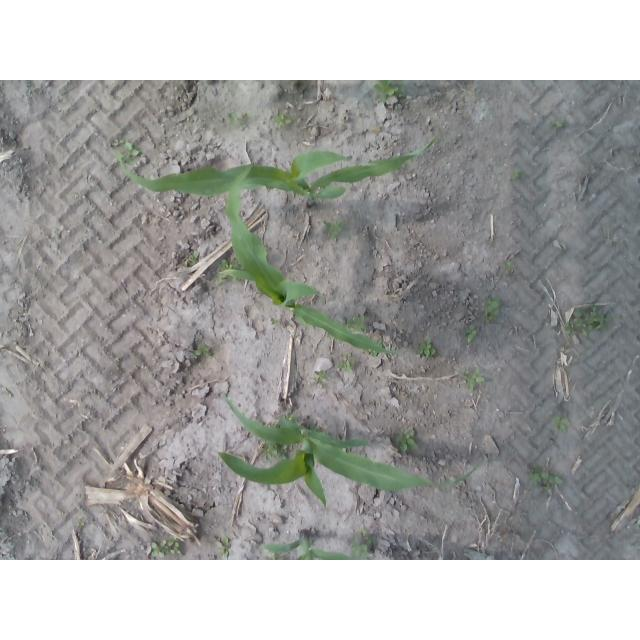Maize: (220, 160, 404, 356), (219, 394, 477, 511), (118, 138, 438, 207), (262, 530, 367, 560)
Weeds: (563, 307, 612, 338), (530, 464, 565, 492), (216, 259, 247, 286), (372, 80, 406, 104), (349, 526, 371, 558), (262, 437, 289, 461), (460, 365, 485, 390), (151, 538, 181, 557), (396, 429, 420, 452), (118, 141, 140, 165), (483, 295, 500, 325), (227, 112, 253, 130), (416, 338, 438, 359), (344, 316, 369, 333), (552, 414, 572, 434), (337, 352, 356, 372), (273, 110, 293, 128), (325, 221, 343, 240), (192, 343, 213, 358), (215, 537, 229, 559), (460, 324, 476, 343), (313, 370, 331, 386), (369, 339, 384, 357), (182, 251, 199, 266), (282, 413, 298, 424), (265, 552, 284, 560), (511, 169, 522, 181), (501, 261, 515, 269), (112, 138, 124, 147), (551, 120, 564, 128), (267, 422, 280, 429), (270, 317, 278, 325), (76, 520, 85, 526)
